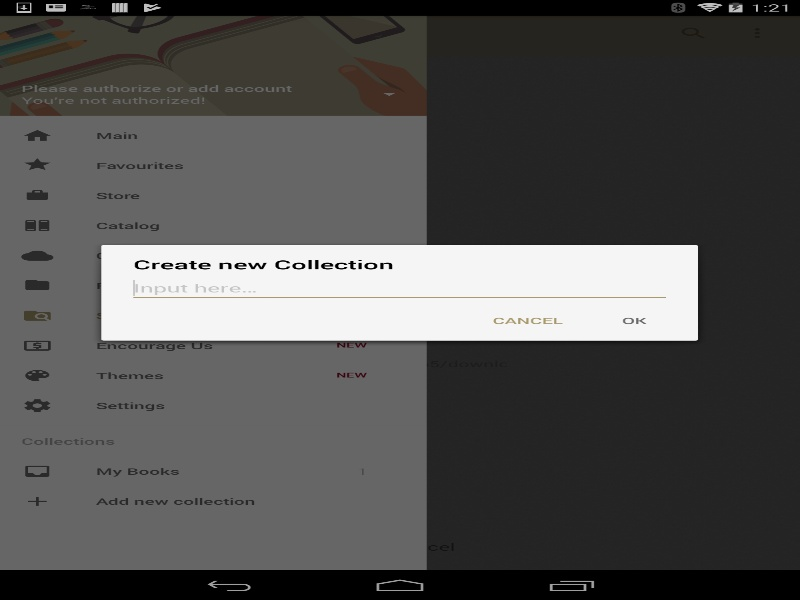Button: (474, 309, 580, 331), (591, 309, 676, 331)
Input: (133, 279, 666, 299)
